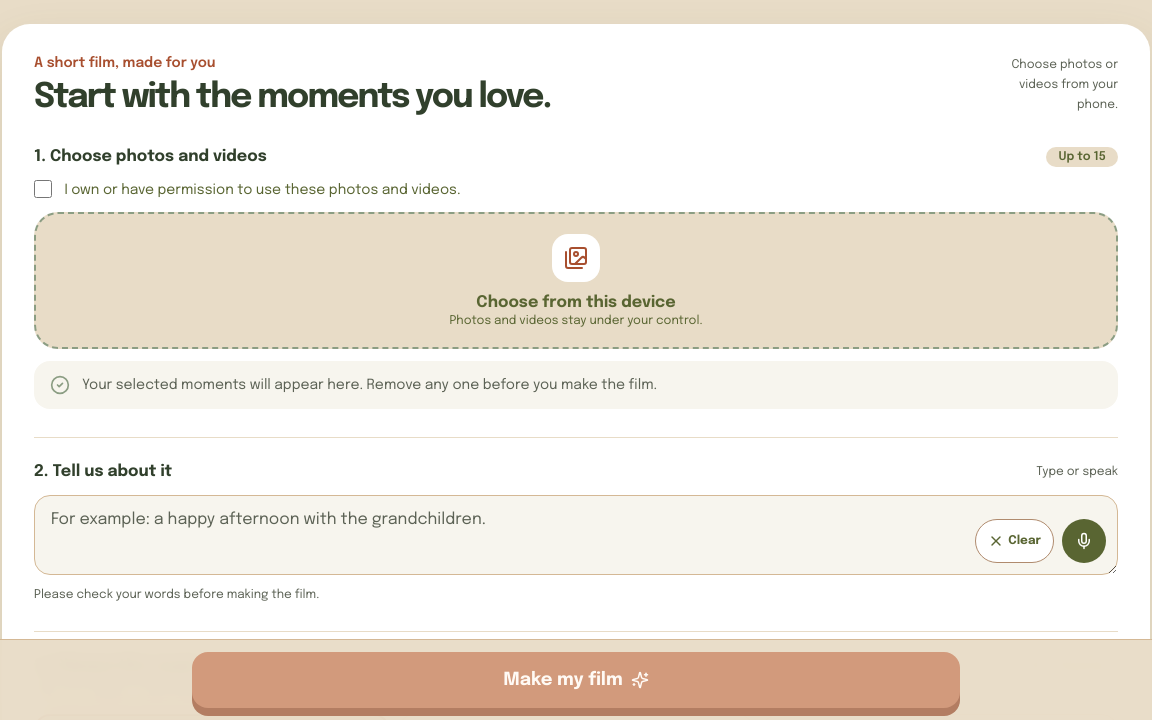
ProductionWizard › clears a spoken or typed request with one labelled action
The image size is (1152, 720).
In the text box named "Your memory request": (576, 535) [34,495,1118,575], type "Use the sunny garden photos."
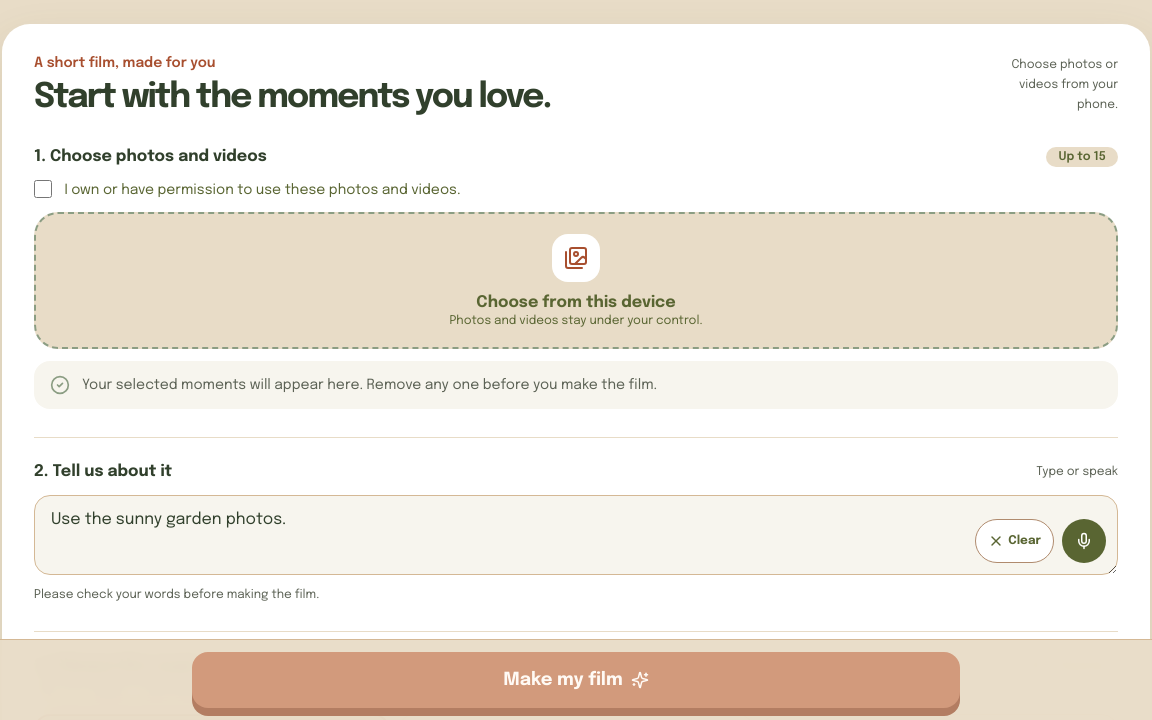
Click the button with aria-label "Clear request": click(1015, 541) [975,519,1054,563]
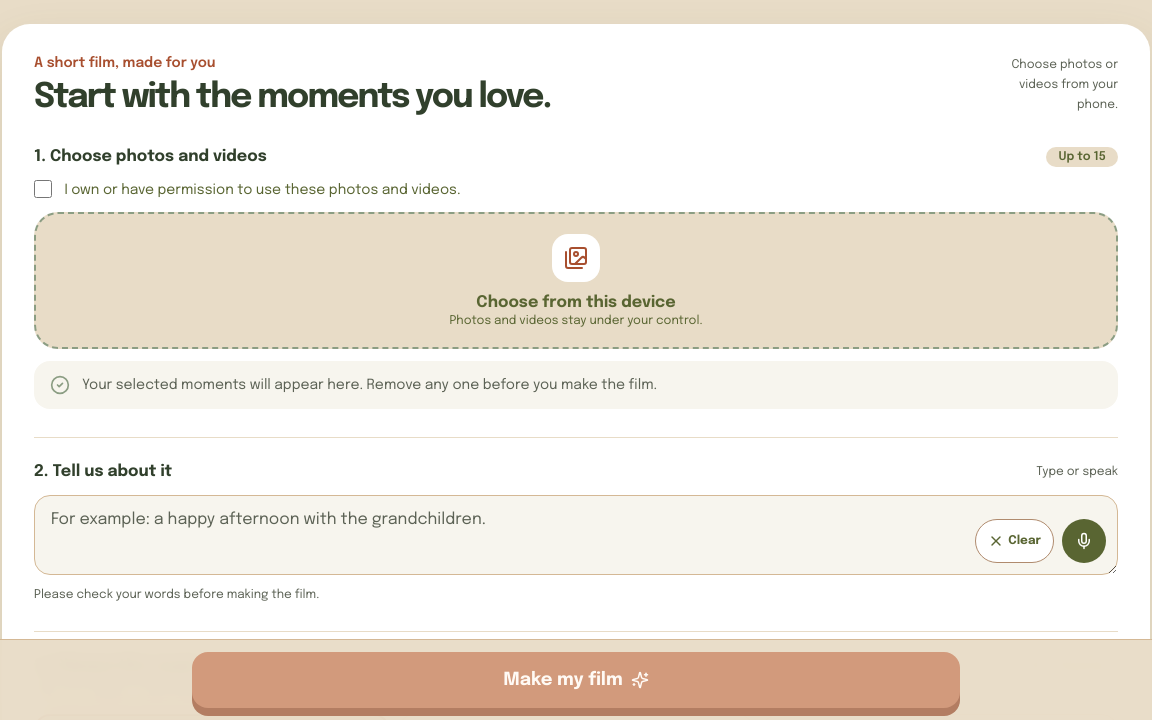
Expected: the text box named "Your memory request" is empty, [34,495,1118,575]
